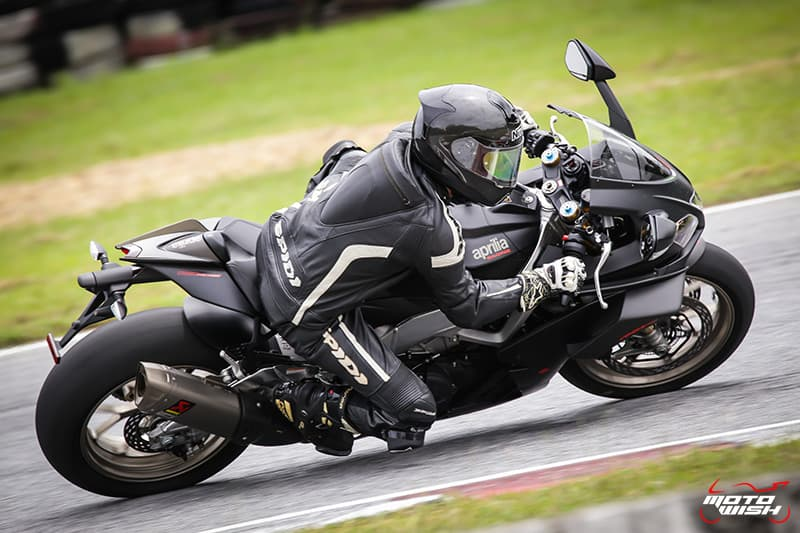helmet: (411, 83, 522, 204)
motorcycle: (39, 40, 755, 501)
